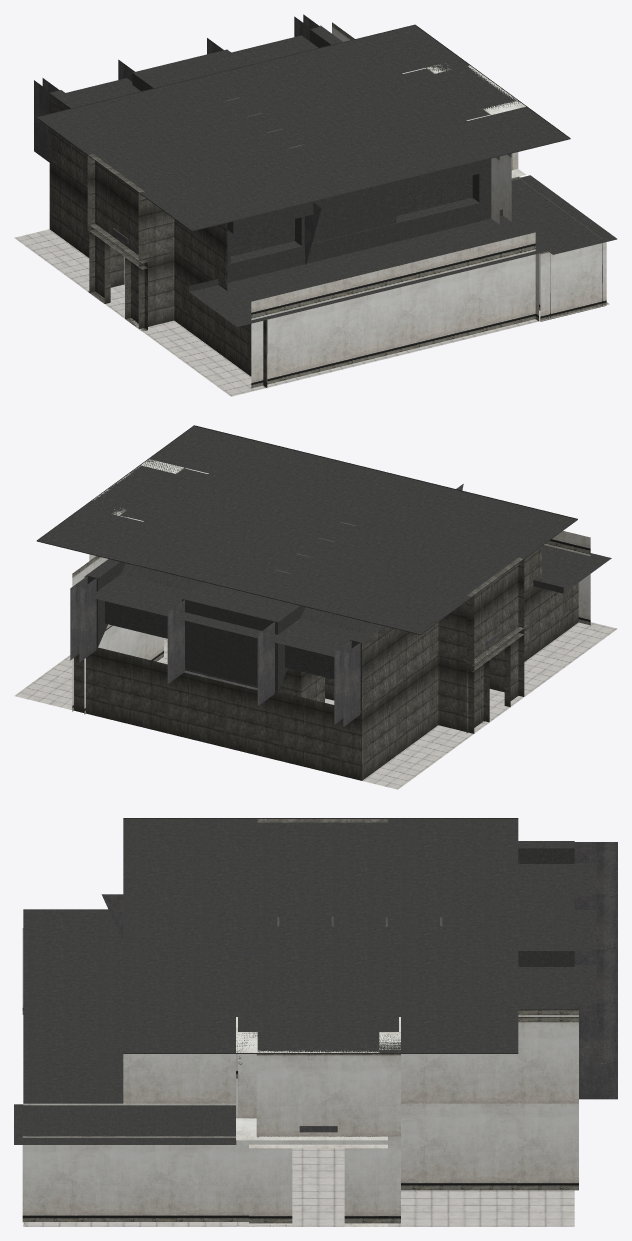
File: Check.fbx
3 views of the same model, one above another, from view 1: azimuth 30°, elevation 25°; view 2: azimuth 150°, elevation 25°; view 3: azimuth 270°, elevation 25° (orthographic). The views are drawn at different scales.
Visible parts, largest first — view 1: default, Plane.005; view 2: default; view 3: default, Plane.005.
Boxes of the visible parts, bbox=[...] form: default: bbox=[14, 14, 609, 396]; Plane.005: bbox=[266, 175, 617, 387]; default: bbox=[14, 425, 617, 789]; default: bbox=[23, 818, 617, 1226]; Plane.005: bbox=[14, 928, 257, 1224].
Size of the model in its own units: 2117 by 729 by 2276.
19 materials, 18 textured.
